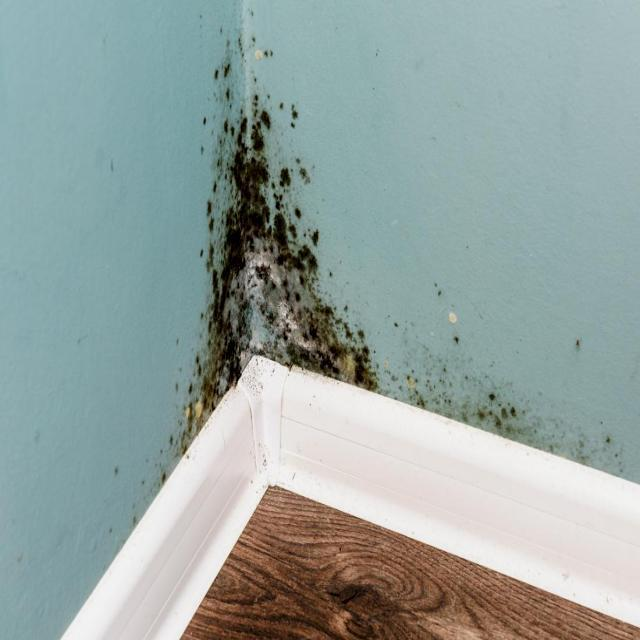leak: (50, 353, 639, 639)
